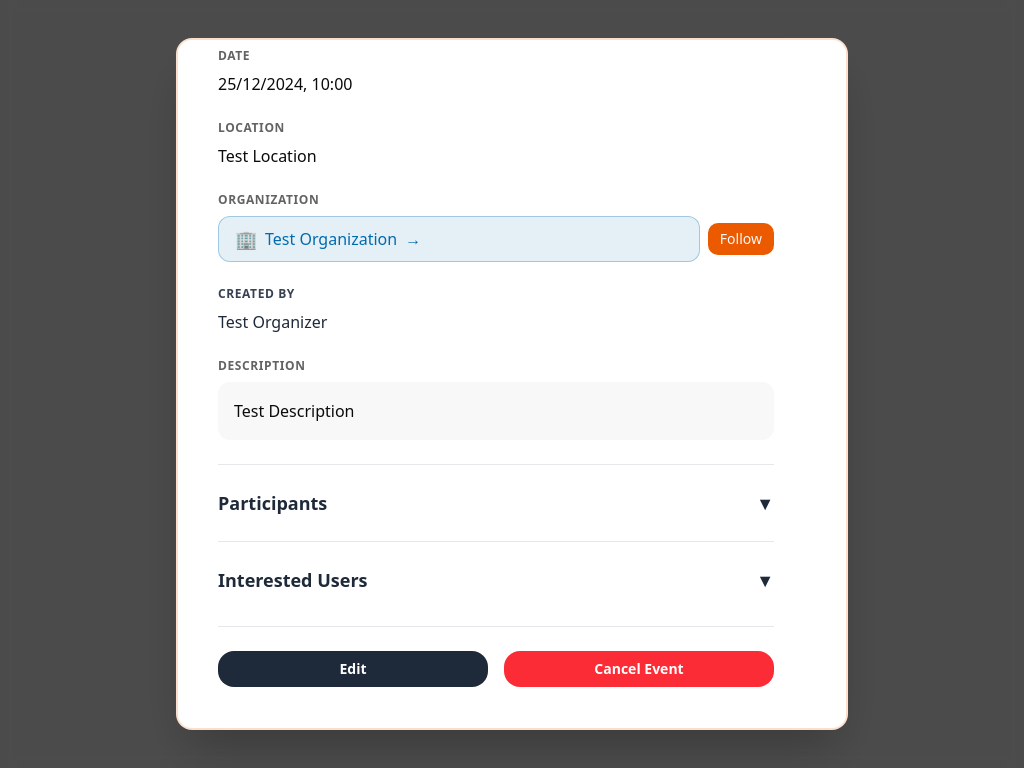
Test case: EventModal › Participation Features › Edit Modal › closes edit modal when Cancel is clicked
(page scrolled)
What coordinates should you click on to do the following:
click the button "Edit"
I would click on:
 (353, 669)
Its box is [218,651,488,687].
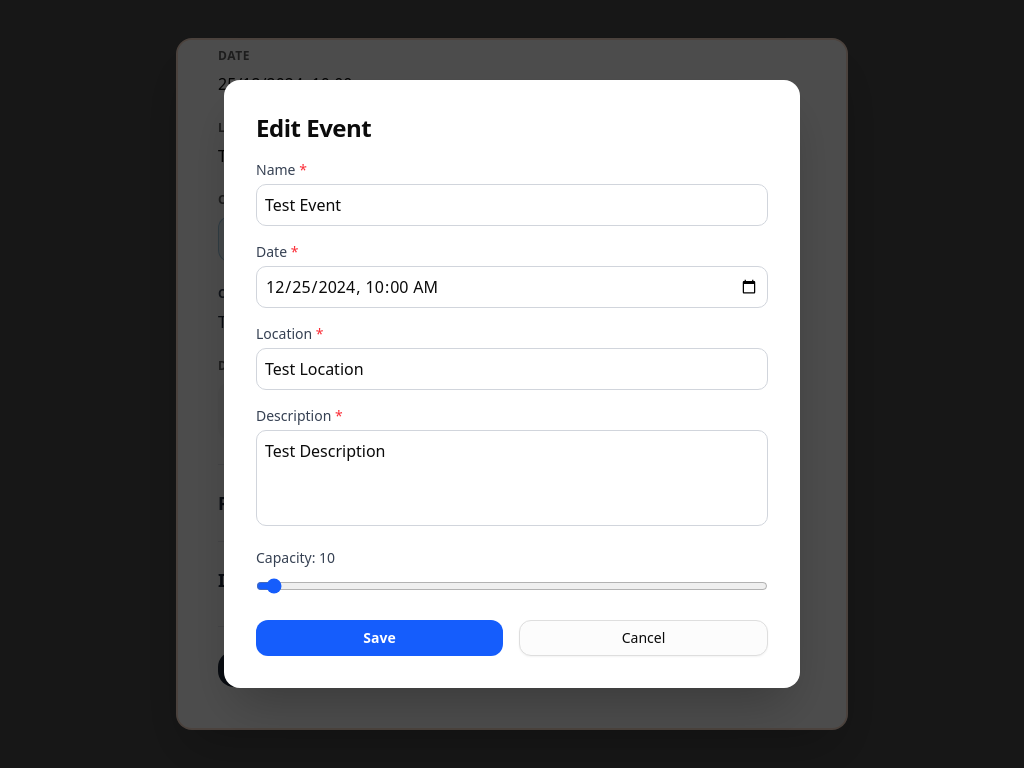
Note: Click Cancel inside edit modal
What coordinates should you click on to do the following:
click the button "Cancel"
I would click on:
 (644, 638)
Its box is [519,620,768,656].
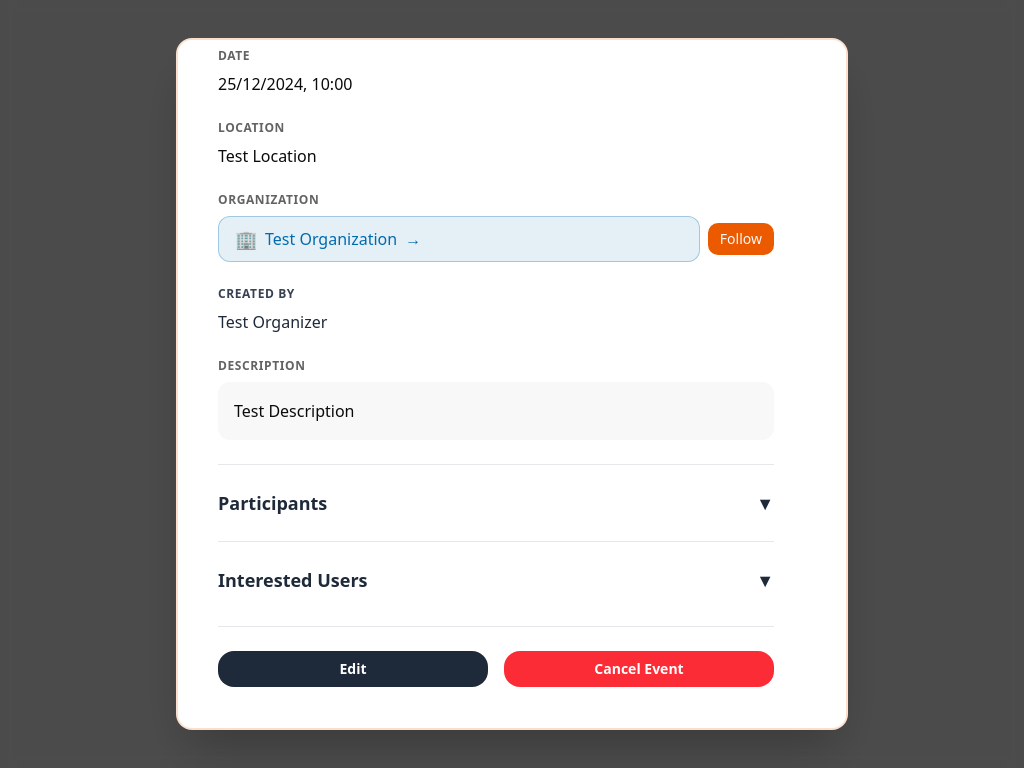
Expected: the button "Save" is gone
